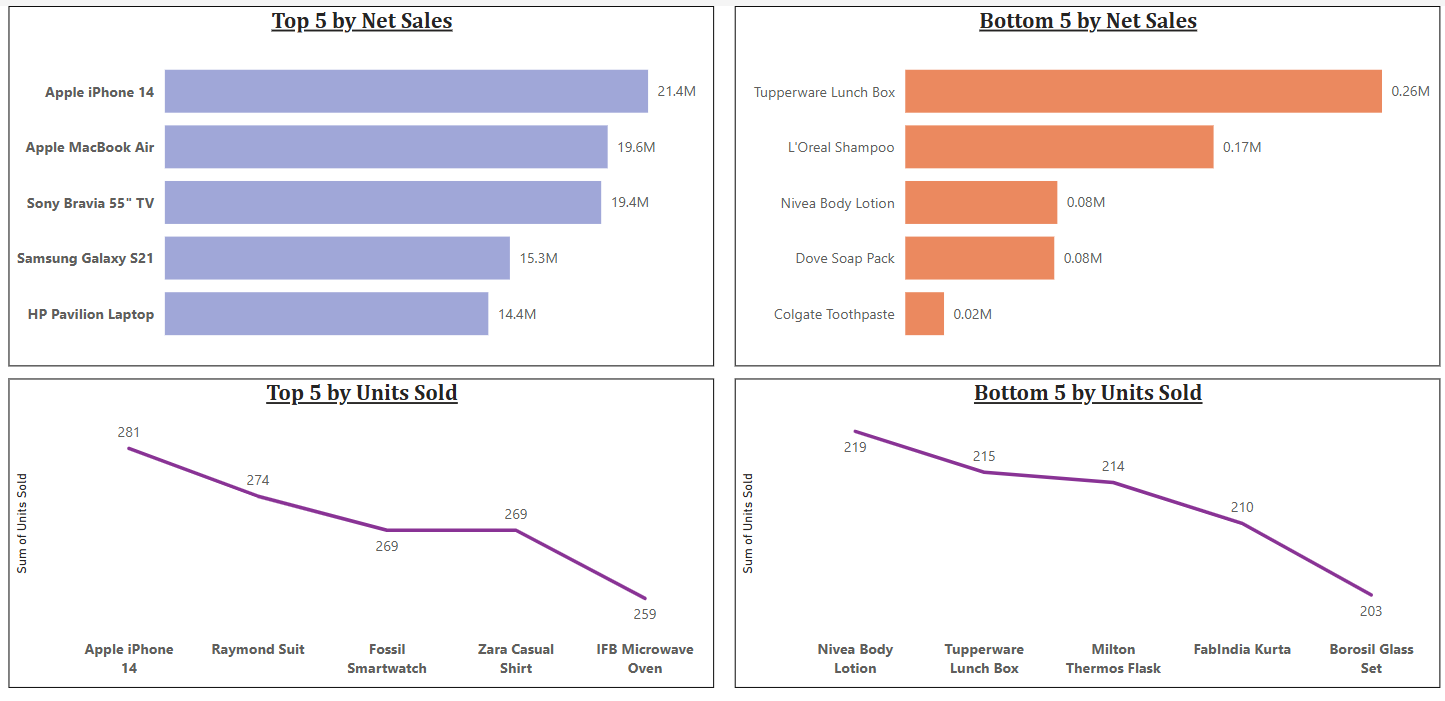

The page's visual inventory and layout, read from the dashboard file:
{"tool":"powerbi","page":{"name":"Req. 1","canvas":[1280,720],"ordinal":0},"visuals":[{"type":"barChart","title":"Top 5 by Net Sales","fields":{"Category":["Dim Product.Product Name"],"Y":["Sum(Fact Table.Net Sales)"]},"box":[10.1,0,598,305.7],"z":0},{"type":"areaChart","title":"Top 5 by Units Sold","fields":{"Category":["Dim Product.Product Name"],"Y":["Sum(Fact Table.Units Sold)"]},"box":[10.1,315.8,598,262],"z":1000},{"type":"barChart","title":"Bottom 5 by Net Sales","fields":{"Category":["Dim Product.Product Name"],"Y":["Sum(Fact Table.Net Sales)"]},"box":[626.6,0,598,305.7],"z":2000},{"type":"areaChart","title":"Bottom 5 by Units Sold","fields":{"Category":["Dim Product.Product Name"],"Y":["Sum(Fact Table.Units Sold)"]},"box":[626.6,315.8,598,262],"z":3000}]}

Visuals, with their boxes on the page's 1280x720 design canvas (x1, y1, x2, y2). These are canvas units, not pixel positions in the 1445x701 screenshot, which may show the page scaled, cropped or inside an application window:
"Top 5 by Net Sales" barChart: bbox=[10, 0, 608, 306]
"Top 5 by Units Sold" areaChart: bbox=[10, 316, 608, 578]
"Bottom 5 by Net Sales" barChart: bbox=[627, 0, 1225, 306]
"Bottom 5 by Units Sold" areaChart: bbox=[627, 316, 1225, 578]
